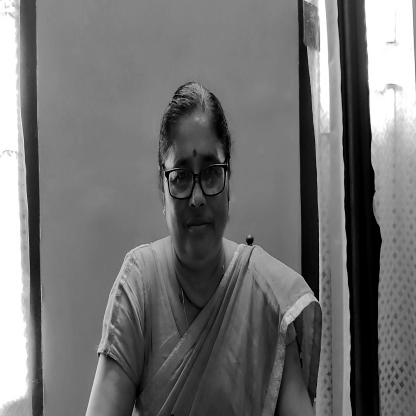Normal: (158, 92, 235, 258)
